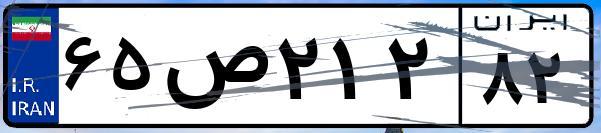1: (330, 28, 385, 110)
2: (270, 28, 330, 110), (385, 28, 445, 110), (525, 38, 570, 115)
5: (110, 28, 158, 98)
6: (57, 26, 110, 100)
8: (475, 38, 525, 113)
ص: (158, 20, 270, 120)
